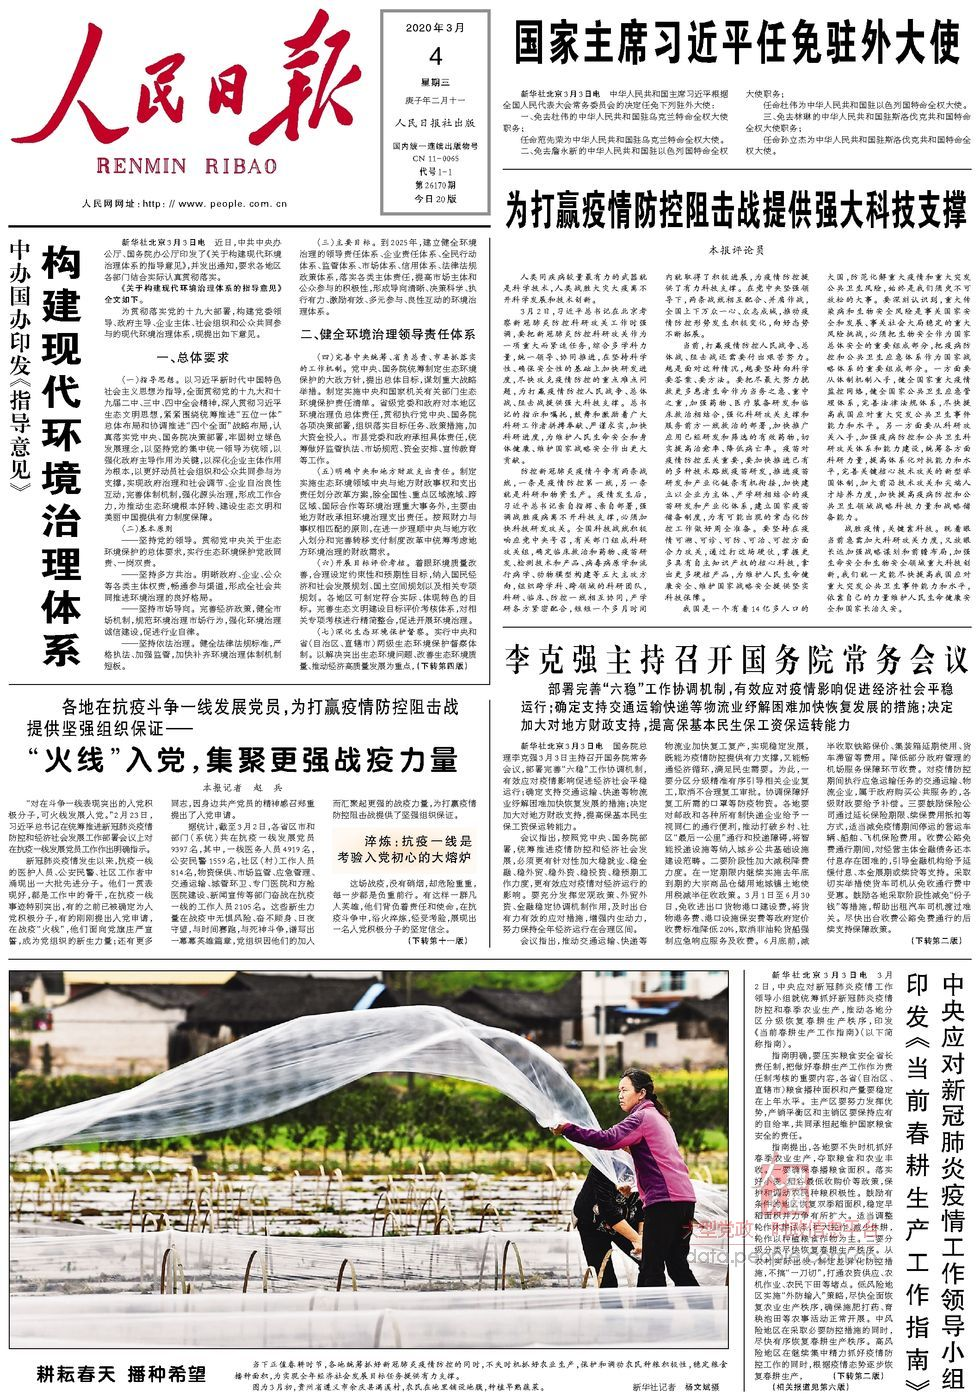pic: (5, 963, 736, 1356)
